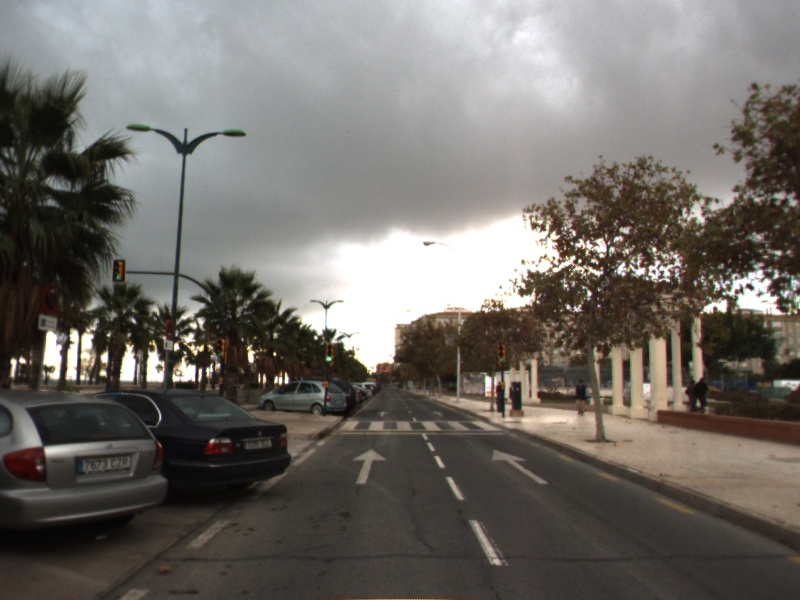STRAIGHT: (490, 448, 551, 485), (350, 447, 388, 485)
